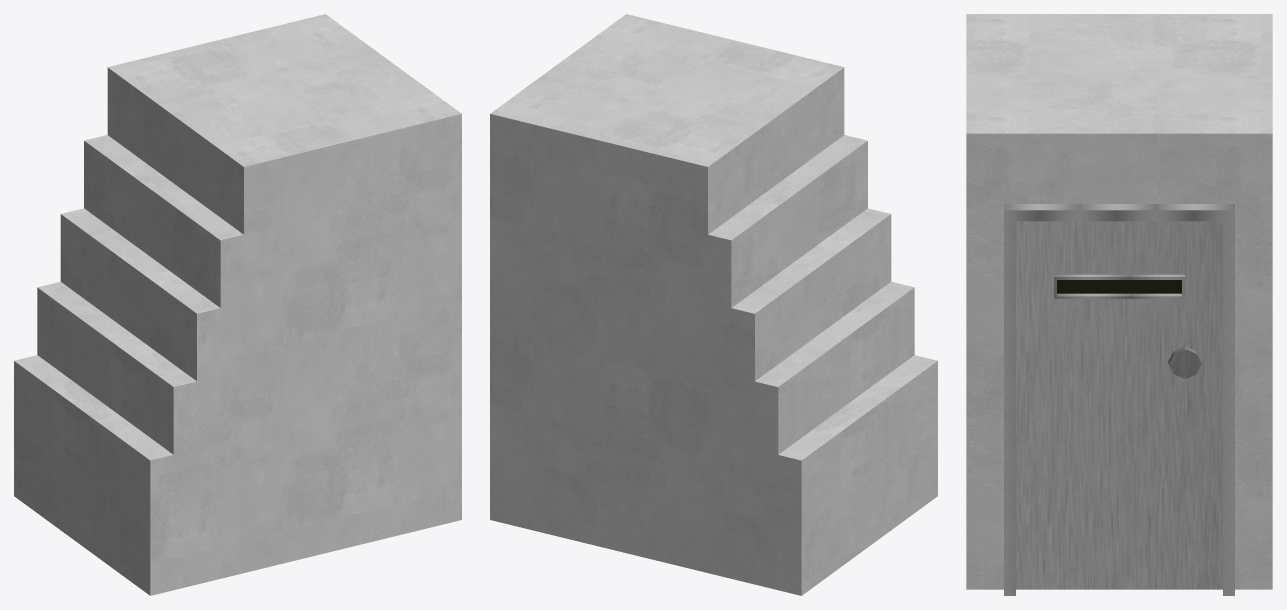
The model's file is Delivery door.fbx.
The picture shows the model from 3 angles, left to right: view 1: azimuth 30°, elevation 25°; view 2: azimuth 150°, elevation 25°; view 3: azimuth 270°, elevation 25°; orthographic projection. The views are drawn at different scales.
Parts seen in each view (by area): view 1: Delivery Door; view 2: Delivery Door; view 3: Delivery Door, DoorFlap.
Part boxes in pixels (x1,y1,x2,y2): Delivery Door: (14,14,461,595); Delivery Door: (490,14,937,595); Delivery Door: (966,14,1272,595); DoorFlap: (1057,280,1181,293).
Bounding box in the file's own units: 13.83 × 16.6 × 10.11.
4 materials, 3 textured.
